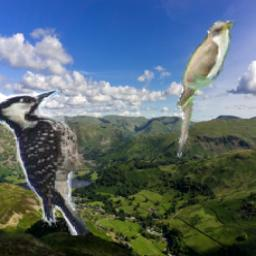Cuckoo: (177, 18, 238, 159)
Woodpecker: (0, 87, 122, 235)
